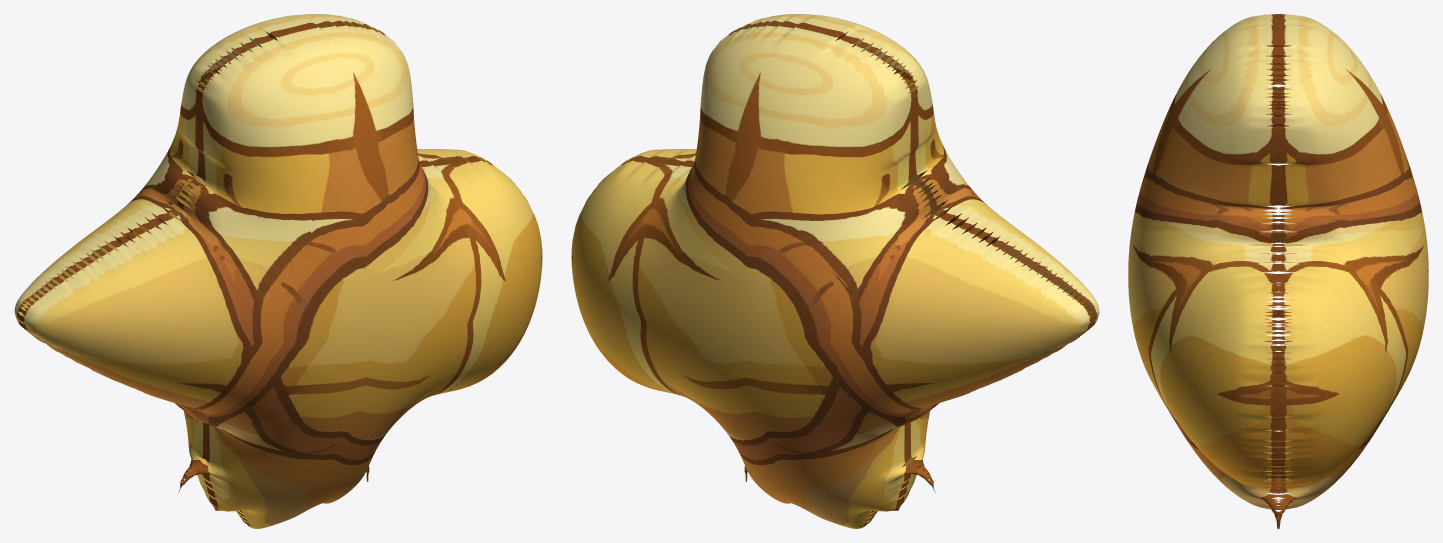
Rendered from log_bundle.glb.
3 views of the same model, side by side, from view 1: azimuth 30°, elevation 25°; view 2: azimuth 150°, elevation 25°; view 3: azimuth 270°, elevation 25° (orthographic). The views are drawn at different scales.
Visible parts, largest first — view 1: log_bundle; view 2: log_bundle; view 3: log_bundle.
Part boxes in pixels (bbox=[...]): log_bundle: bbox=[14, 14, 542, 528]; log_bundle: bbox=[571, 14, 1099, 528]; log_bundle: bbox=[1128, 14, 1428, 528].
Bounding box in the file's own units: 0.9889 × 0.9064 × 0.5196.
Materials: 1 (1 with a texture image).
